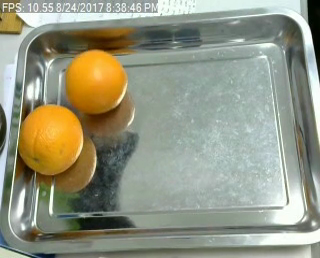Orange: (17, 104, 82, 175), (65, 48, 127, 113)
